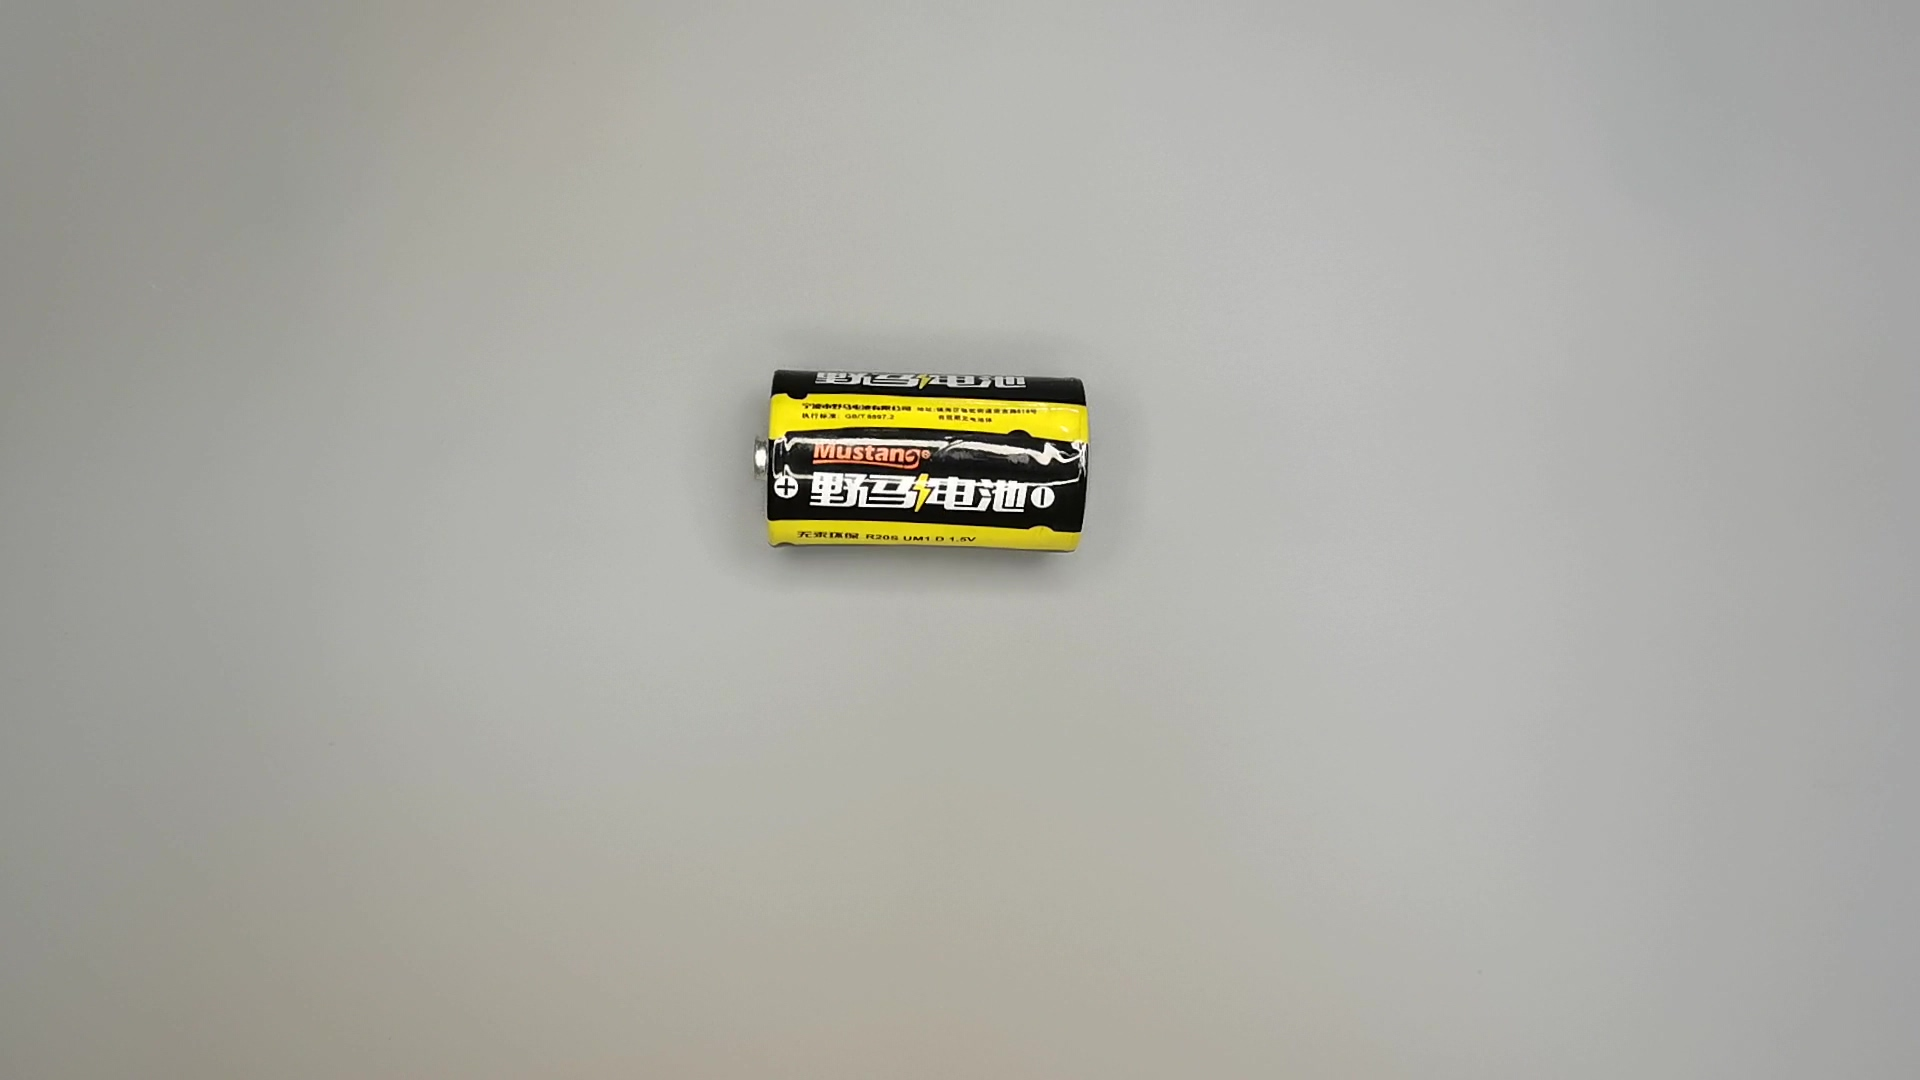battery: (745, 361, 1098, 567)
